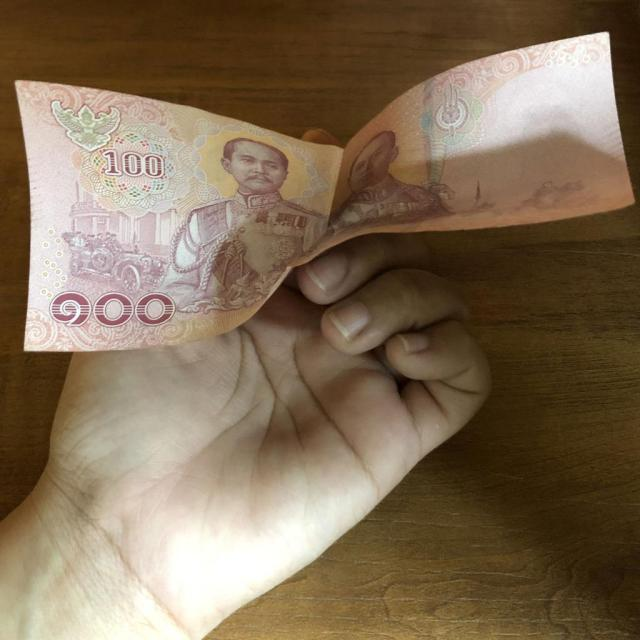THAI100: (16, 32, 634, 352)
